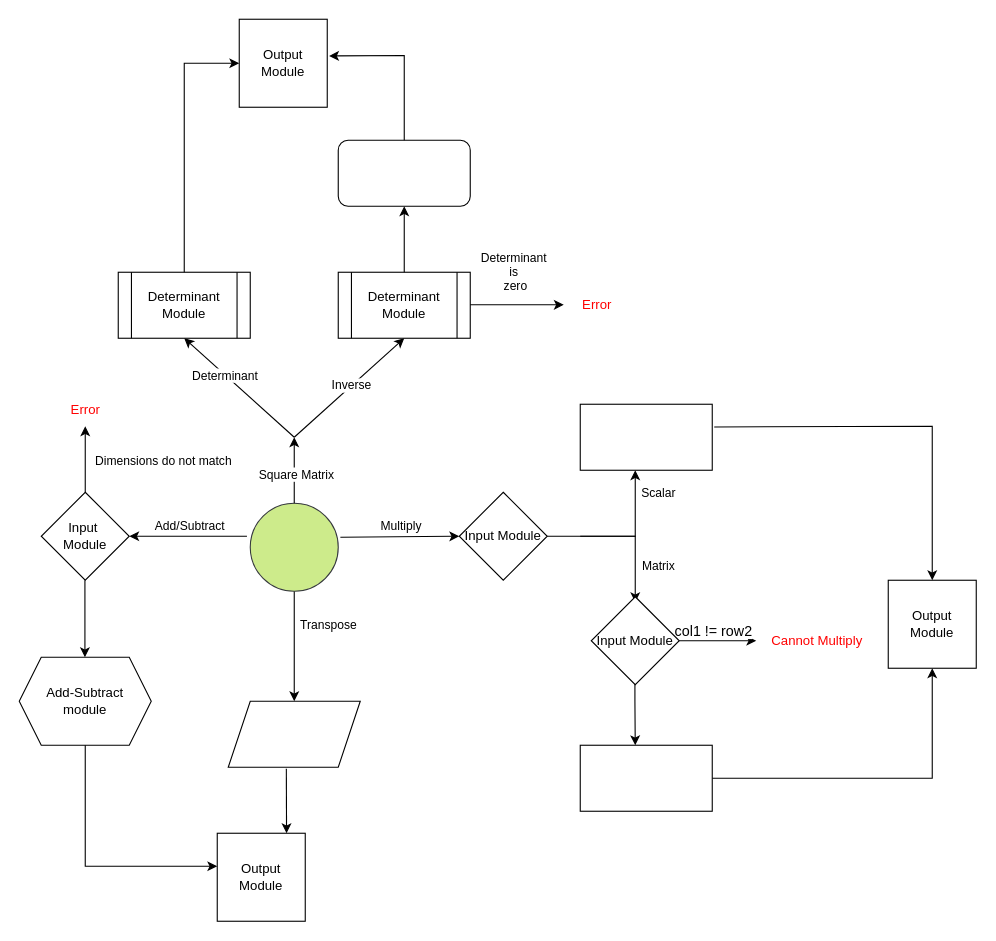
This 996x941 diagram has some shape labels left out. The centre of each missing label's shape, as x and y in pixels:
"Inverse Module" belongs at (x=403, y=172).
"Matrix Multiplier Module" belongs at (x=645, y=777).
"Scalar Multiplier" belongs at (x=645, y=436).
"Starting Matrix" belongs at (x=293, y=546).
"Transpose Module" belongs at (x=293, y=733).
